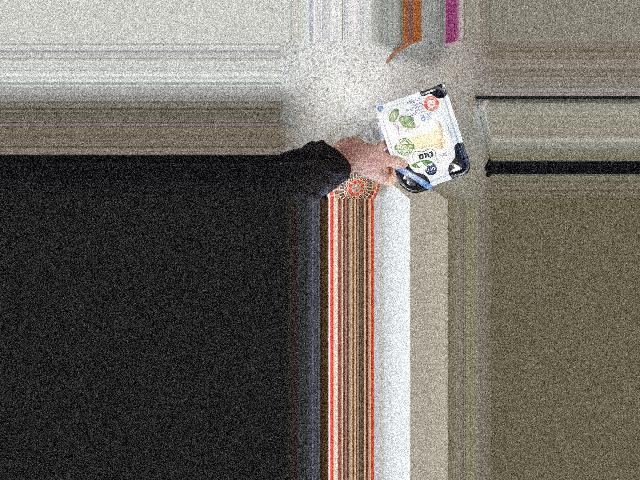cheese: (389, 96, 457, 183)
